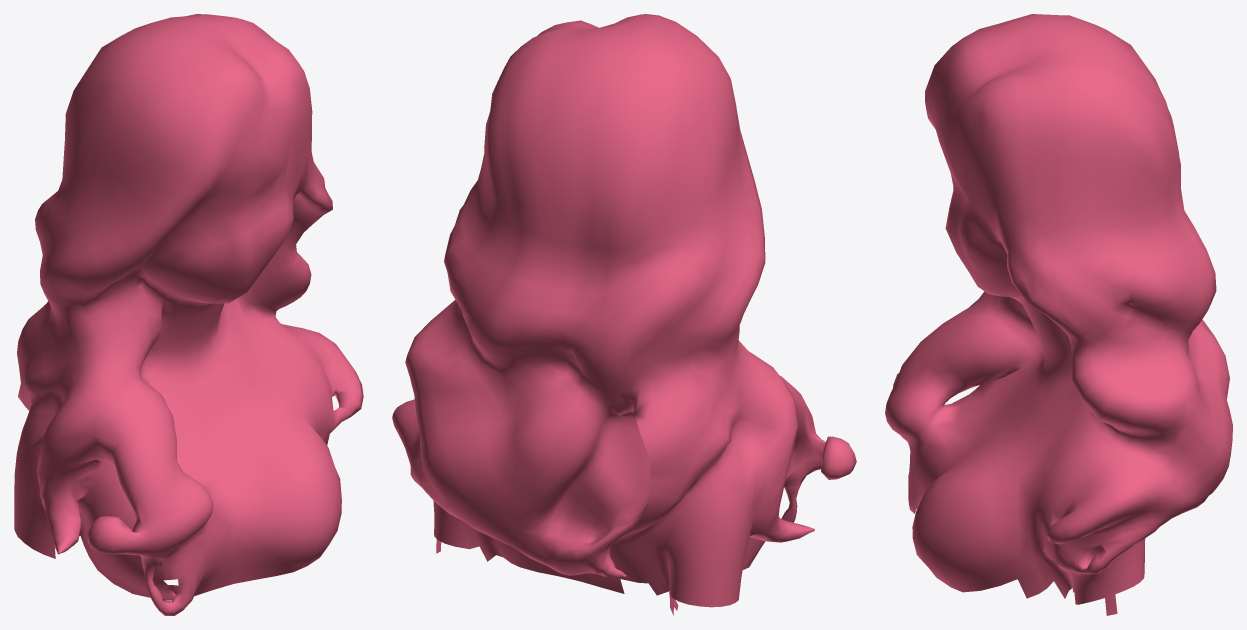
Rendered from a_human_woman_pink.glb.
3 renders of one model, left to right at view 1: azimuth 30°, elevation 25°; view 2: azimuth 150°, elevation 25°; view 3: azimuth 270°, elevation 25°, orthographic. The views are drawn at different scales.
Parts seen in each view (by area): view 1: Mesh0; view 2: Mesh0; view 3: Mesh0.
Part boxes in pixels (x1,y1,x2,y2): Mesh0: (14, 14, 363, 615); Mesh0: (392, 14, 856, 615); Mesh0: (885, 14, 1232, 615).
Size of the model in its own units: 0.4042 by 0.5753 by 0.3465.
